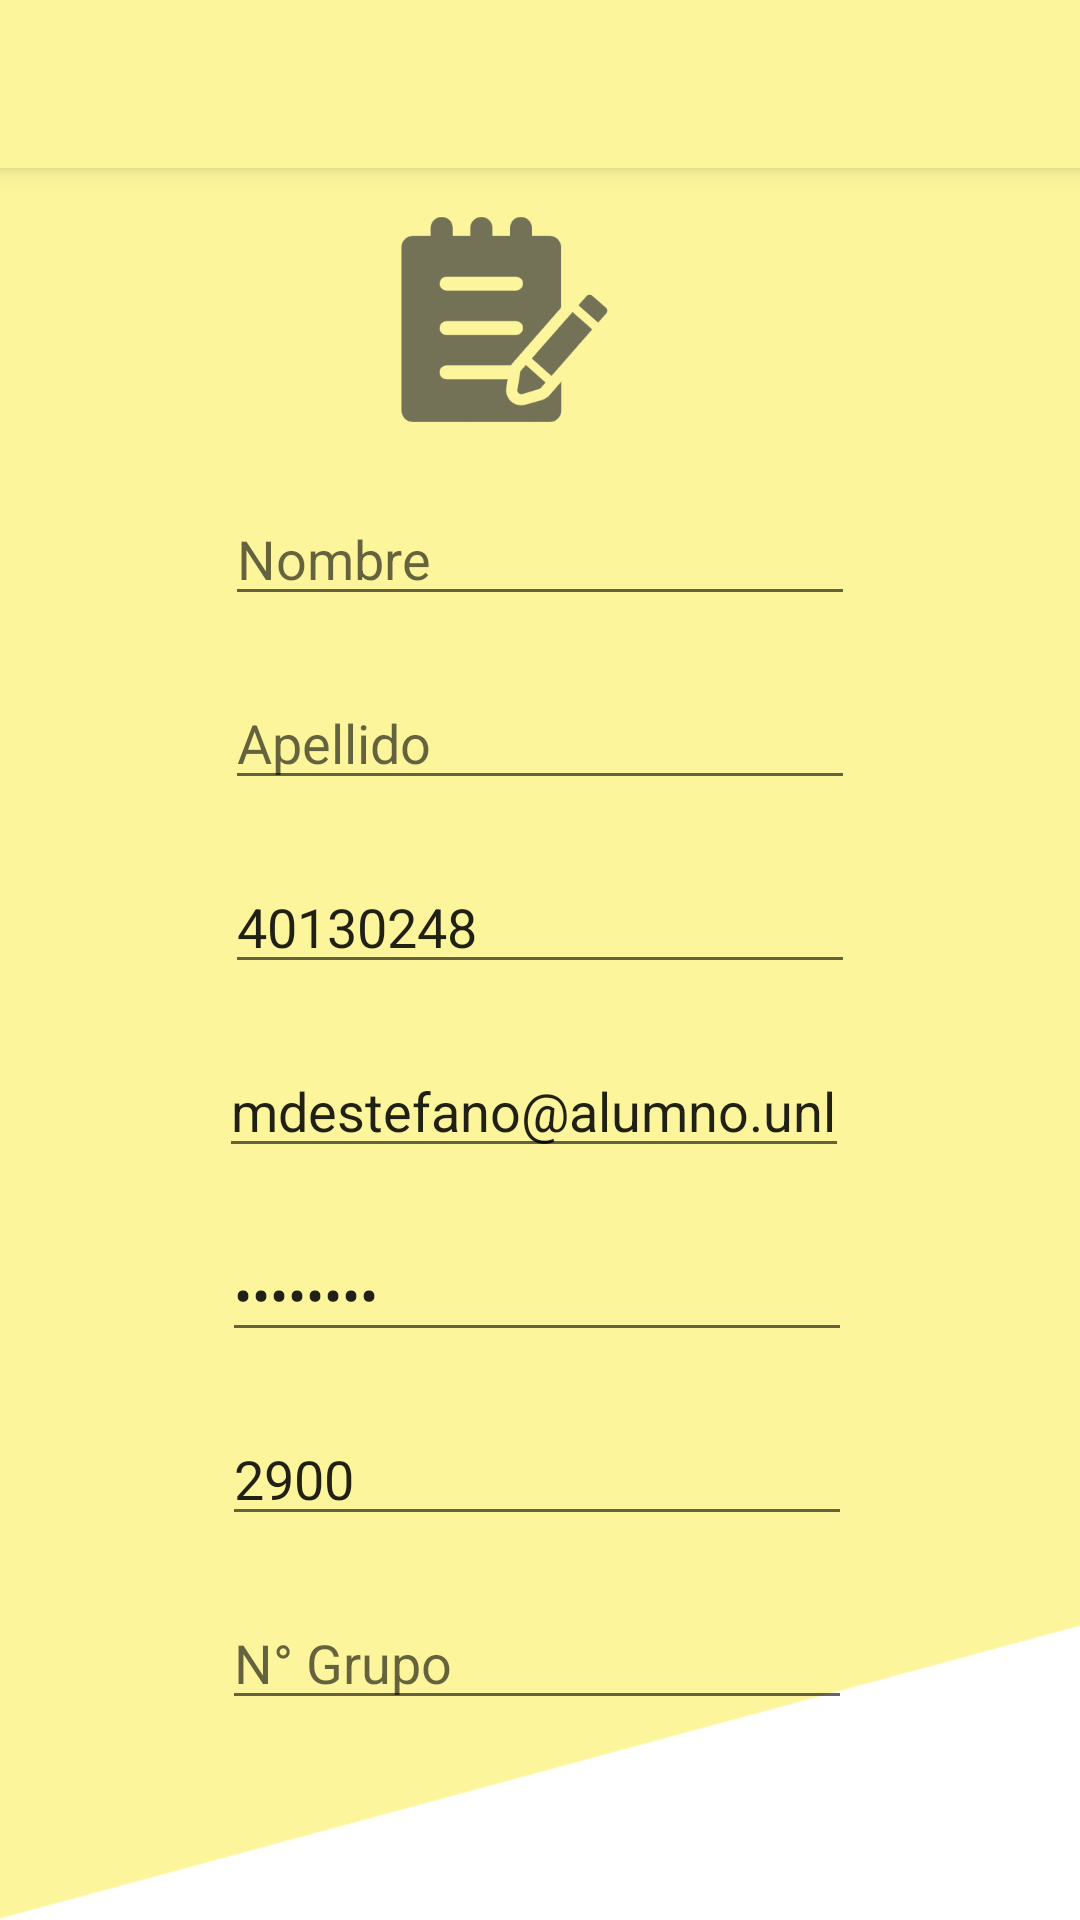

Screen size 1080x1920. Icon name, then its center in pixels as (x=x, y=y):
form: (x=504, y=319)
